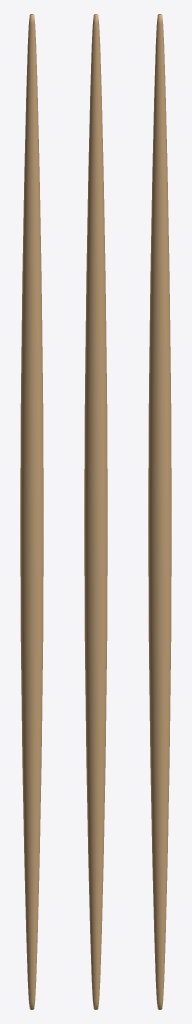
Rendered from Toothpick_2.fbx.
The picture shows the model from 3 angles, left to right: view 1: azimuth 90°, elevation 25°; view 2: azimuth 150°, elevation 25°; view 3: azimuth 270°, elevation 25°; orthographic projection.
Visible parts, largest first — view 1: pCylinder1; view 2: pCylinder1; view 3: pCylinder1.
Boxes of the visible parts, bbox=[...] form: pCylinder1: bbox=[20, 14, 43, 1009]; pCylinder1: bbox=[84, 14, 107, 1009]; pCylinder1: bbox=[148, 14, 171, 1009].
Bounding box in the file's own units: 0.0744 × 3.46 × 0.0744.
